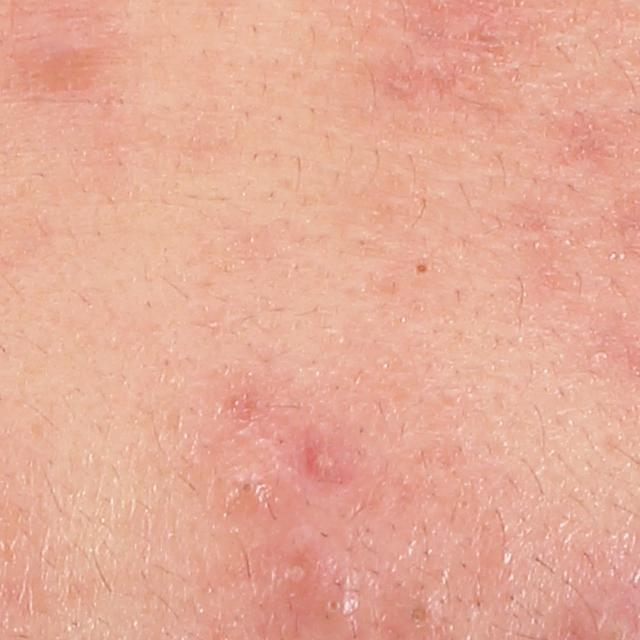comedo: (219, 473, 281, 524), (400, 600, 436, 632)
papule: (307, 438, 355, 493)
